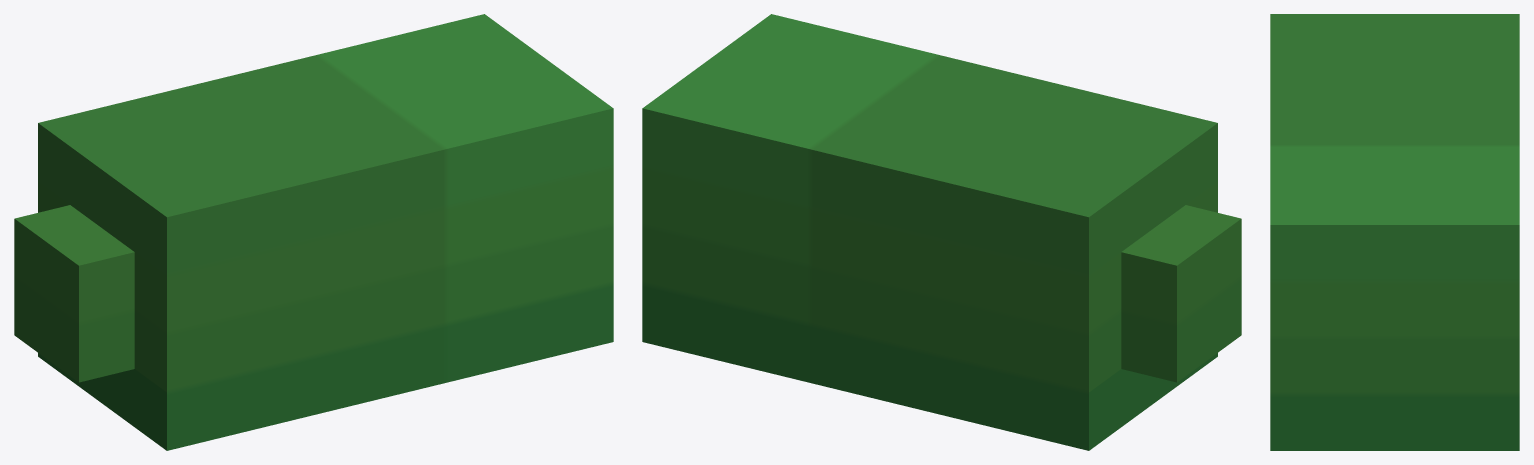
File: Elbow029.fbx
3 views of the same model, side by side, from view 1: azimuth 30°, elevation 25°; view 2: azimuth 150°, elevation 25°; view 3: azimuth 270°, elevation 25° (orthographic). The views are drawn at different scales.
Parts seen in each view (by area): view 1: Elbow029; view 2: Elbow029; view 3: Elbow029.
Part boxes in pixels (x1,y1,x2,y2): Elbow029: (14, 14, 613, 450); Elbow029: (642, 14, 1241, 450); Elbow029: (1270, 14, 1519, 450).
Bounding box in the file's own units: 9 × 4 × 4.
